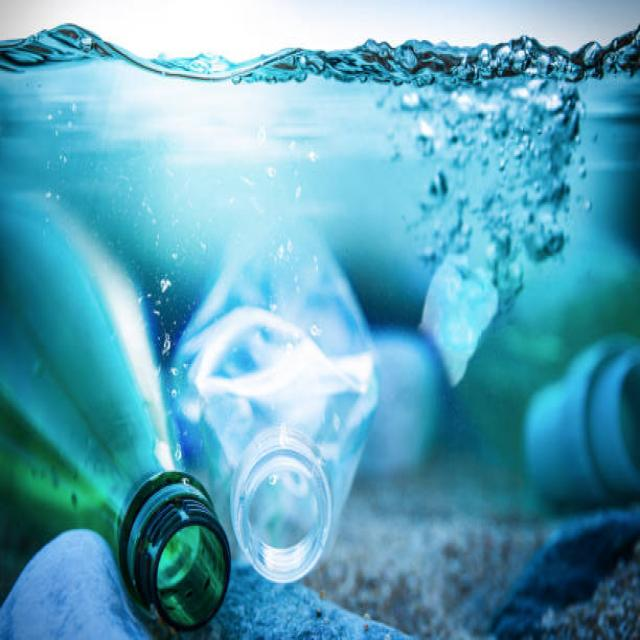plastic: (119, 415, 362, 626)
